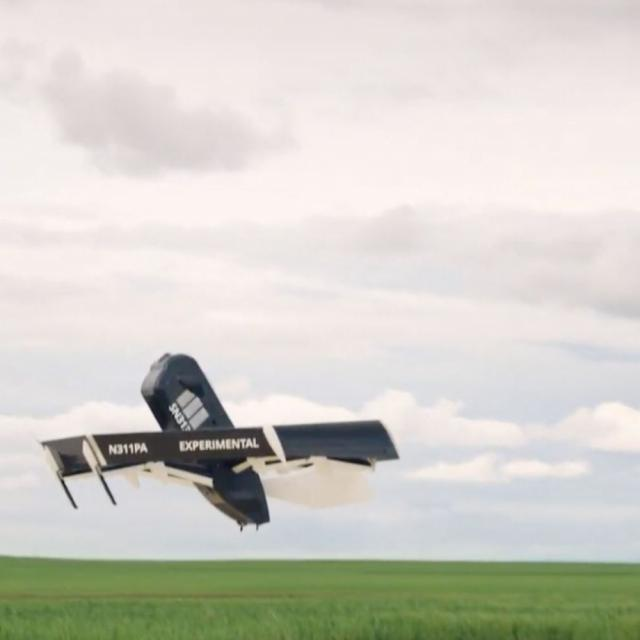drone: (36, 334, 412, 556)
